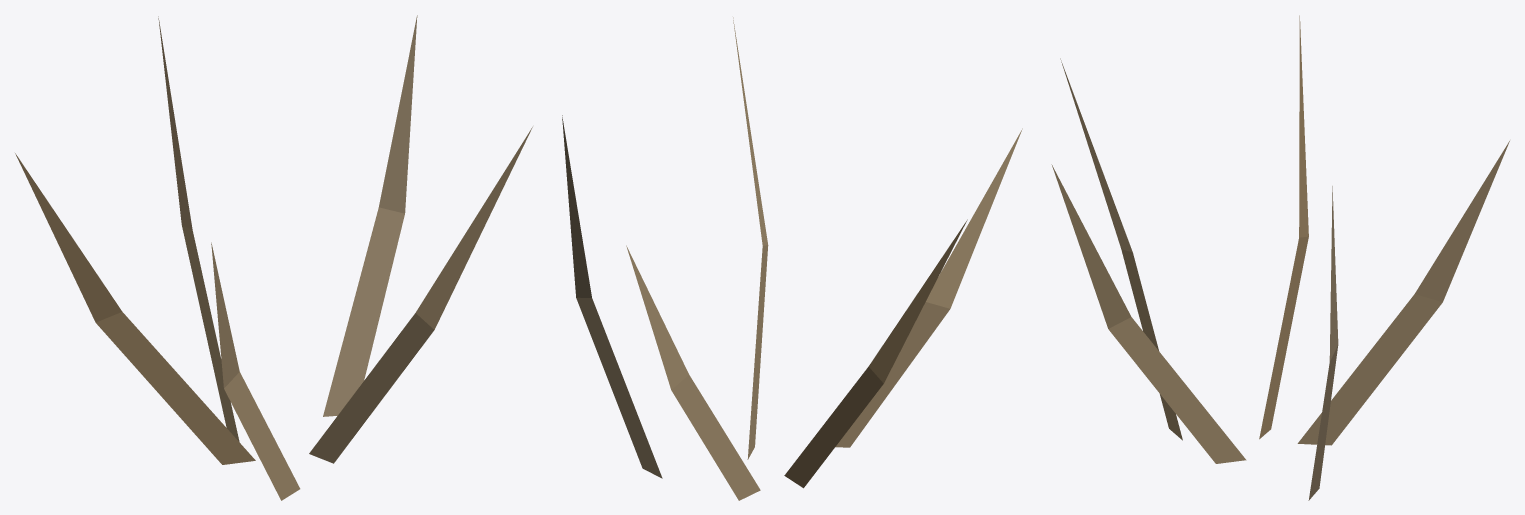
Rendered from Dead_Bush_b_01.fbx.
3 views of the same model, side by side, from view 1: azimuth 30°, elevation 25°; view 2: azimuth 150°, elevation 25°; view 3: azimuth 270°, elevation 25° (orthographic). The views are drawn at different scales.
Visible parts, largest first — view 1: Dead_Bush_b_01; view 2: Dead_Bush_b_01; view 3: Dead_Bush_b_01.
Boxes of the visible parts, box(x1,y1,x2,y2) form: Dead_Bush_b_01: box(15, 15, 532, 500); Dead_Bush_b_01: box(562, 17, 1022, 500); Dead_Bush_b_01: box(1051, 15, 1509, 500).
Bounding box in the file's own units: 47.31 × 40.84 × 47.77.
